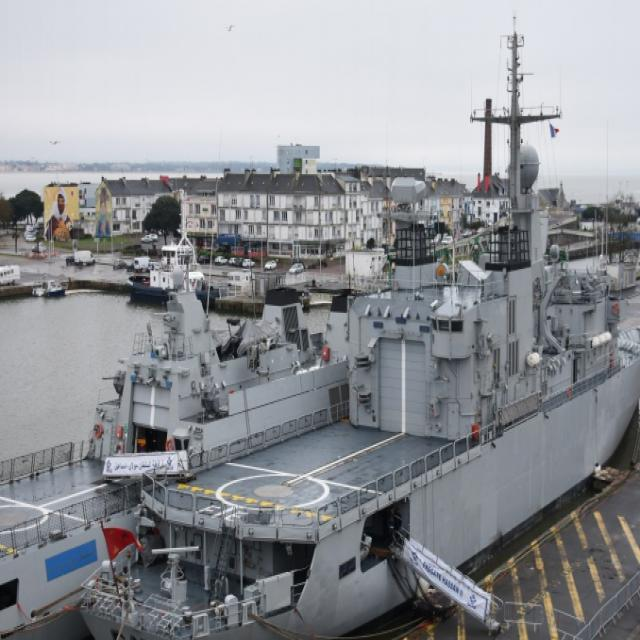Fragata: (74, 8, 640, 640)
